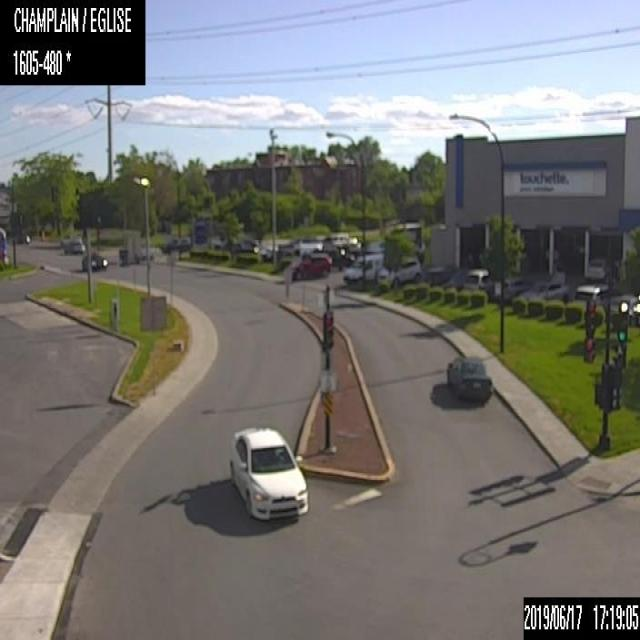vehicle: (228, 425, 309, 523), (444, 355, 492, 401), (374, 256, 422, 286), (342, 252, 383, 284), (519, 278, 568, 302), (574, 280, 607, 312), (291, 256, 329, 280), (117, 243, 155, 266), (604, 295, 632, 324), (318, 231, 349, 251), (502, 274, 530, 296), (464, 268, 491, 289), (160, 235, 190, 253), (294, 236, 324, 252), (230, 236, 258, 253), (587, 257, 608, 279), (331, 240, 349, 265), (82, 252, 106, 270), (62, 236, 84, 253), (259, 244, 281, 260), (630, 299, 639, 325)
